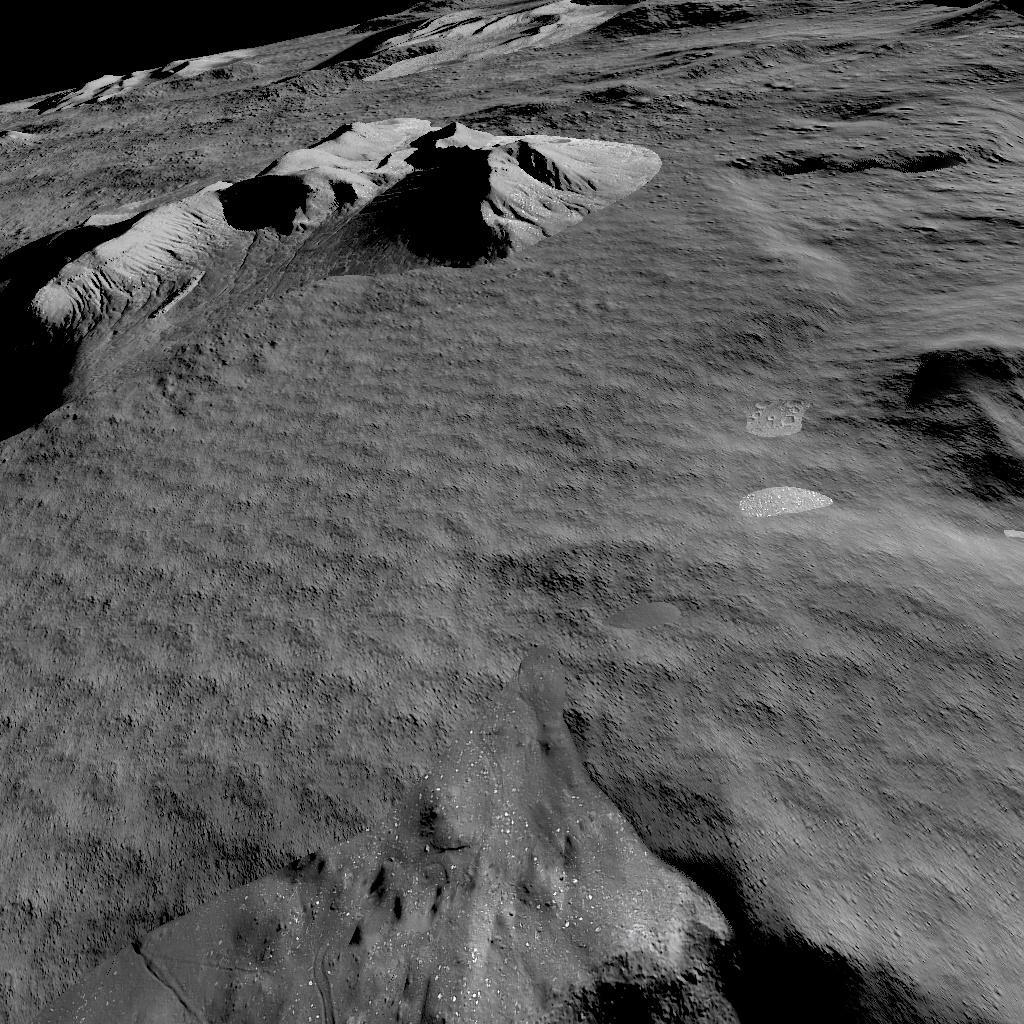Boulders: (0, 120, 663, 440), (334, 0, 750, 78), (56, 52, 250, 108)
Crater: (0, 752, 1024, 1024), (891, 340, 1024, 543), (708, 142, 980, 188)
Plan surface: (0, 455, 878, 740)
